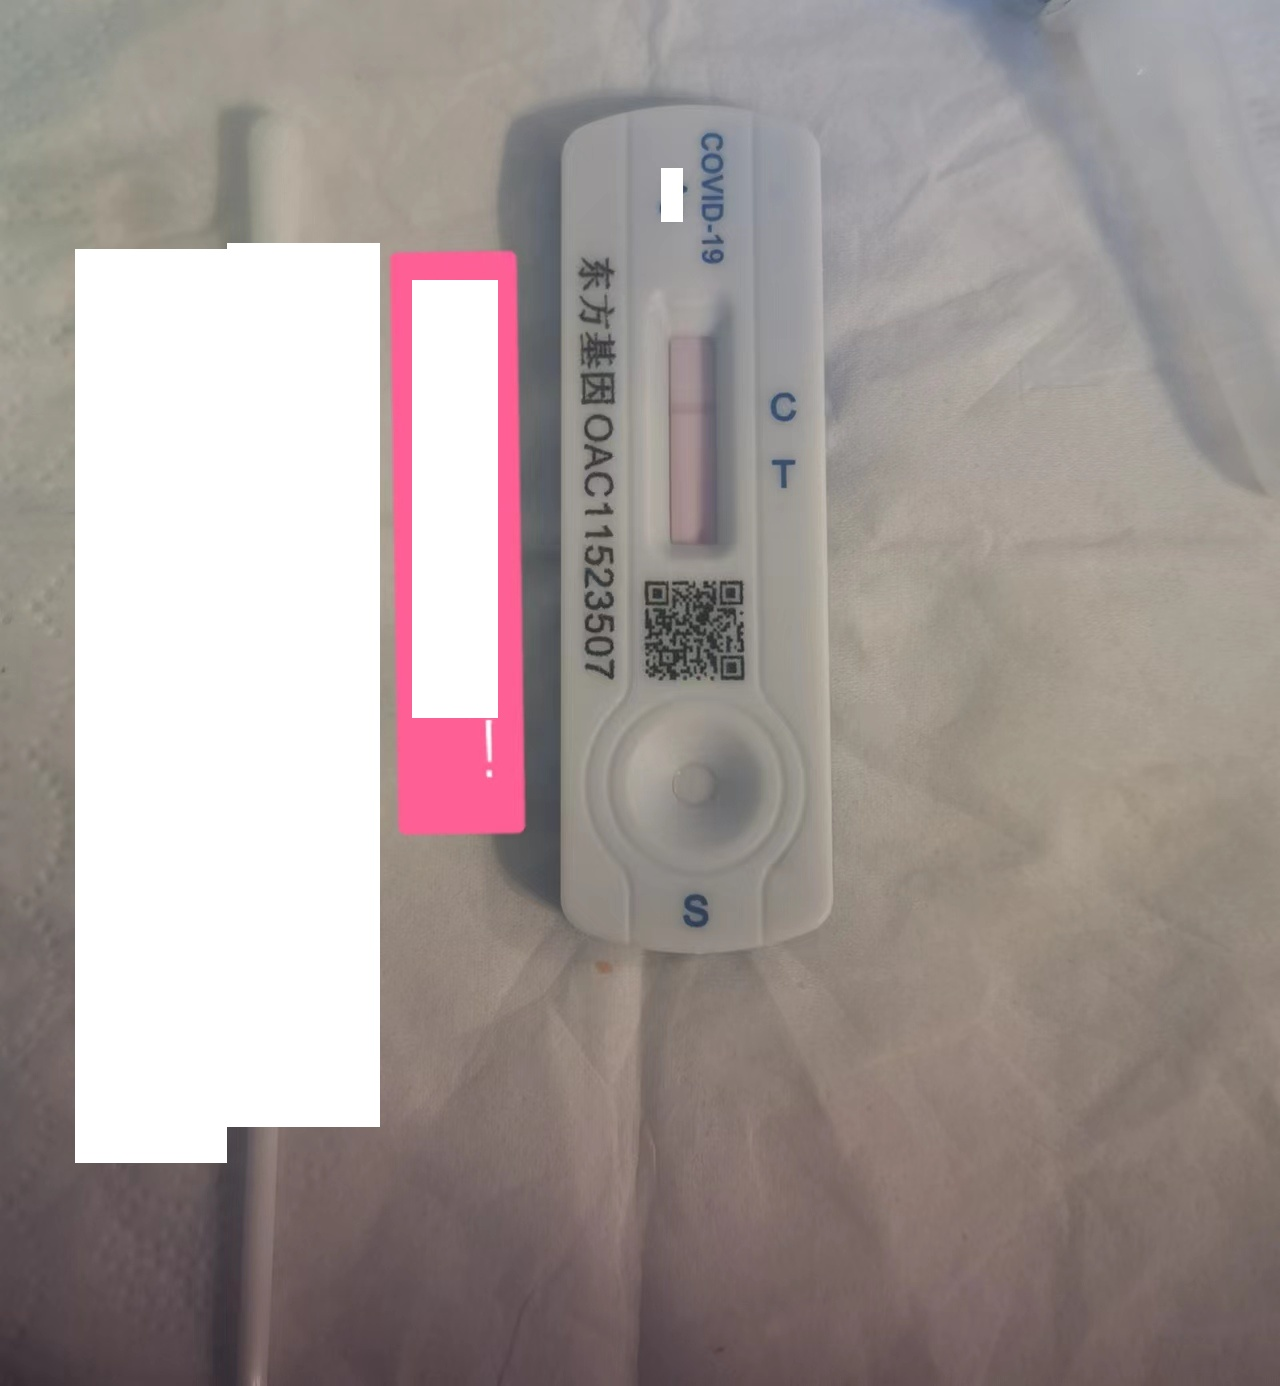negative: (642, 289, 737, 567)
